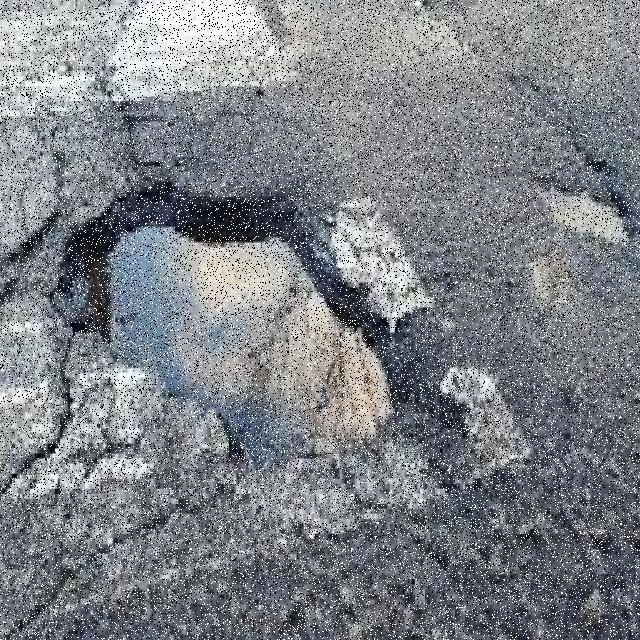pothole: (37, 169, 415, 479)
